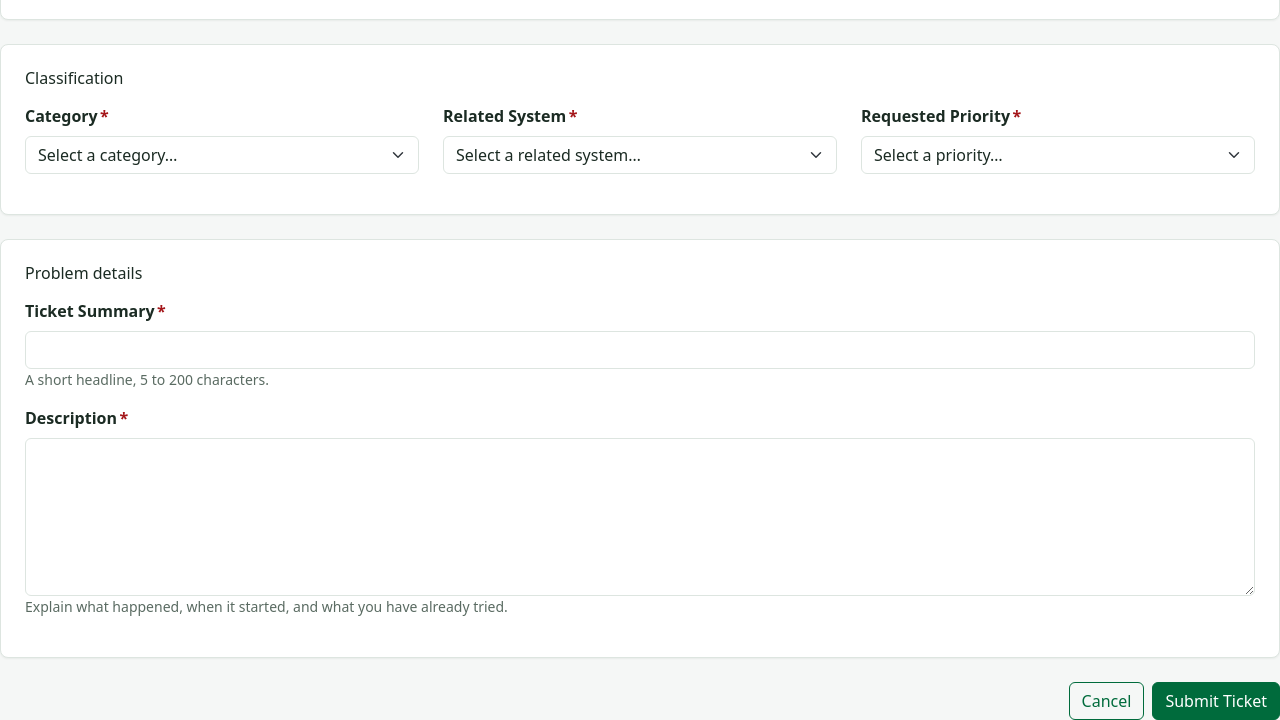
Scenario: Create Ticket — validation › UI-03: shows a message below Summary and sends no request when it is empty
This screenshot has width=1280, height=720.
(page scrolled)
Expected: the dropdown labelled "Category*" is shown, [25, 136, 419, 174]
Click the button "Submit Ticket".
click(1216, 701)  # box [1152, 682, 1279, 719]
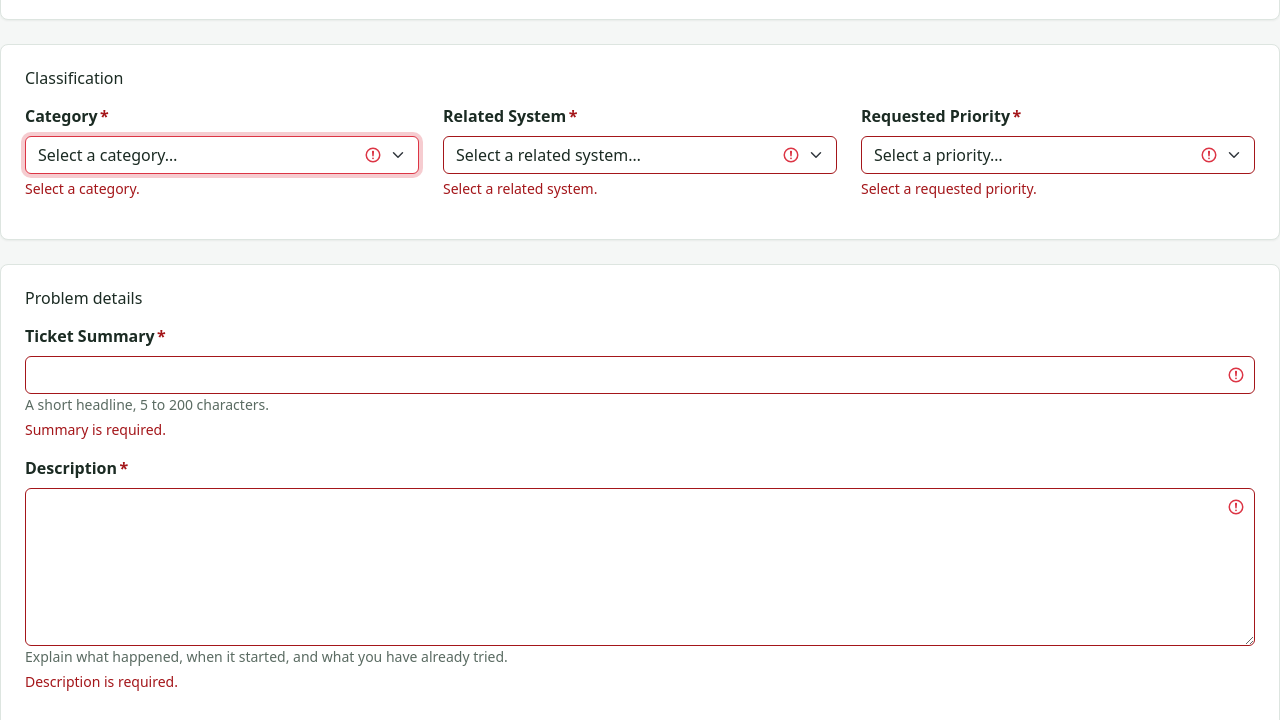
Expected: the text "Summary is required." is shown, [25, 420, 166, 439]
